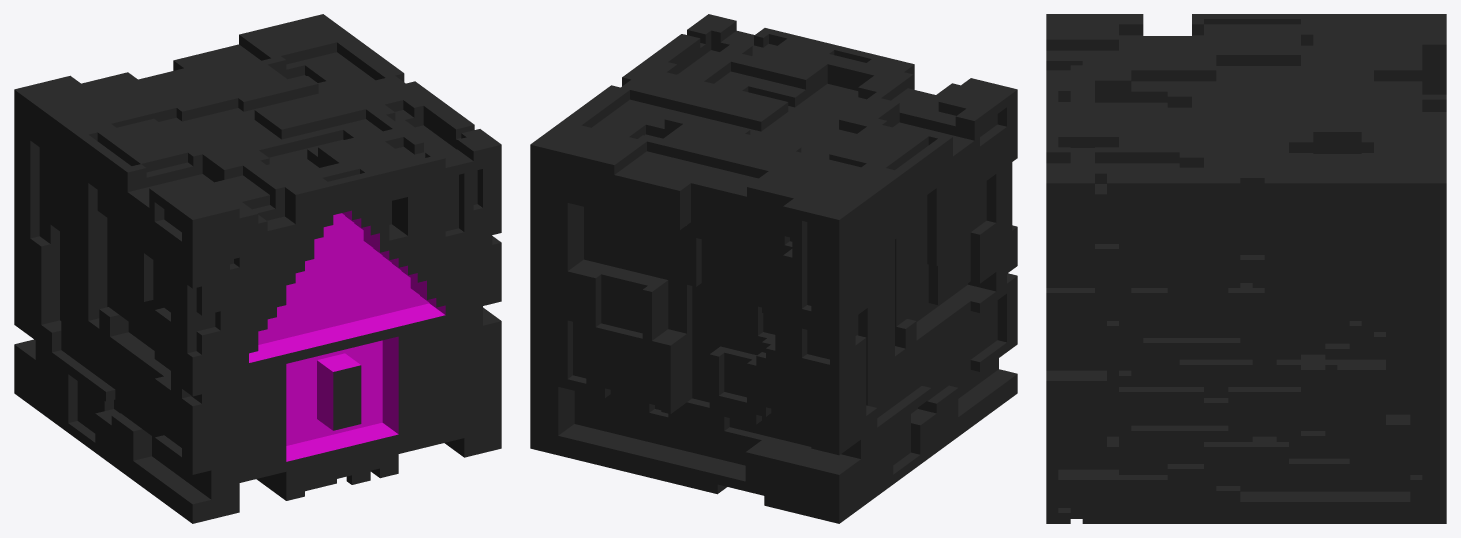
Rendered from MenuPrinciapal.fbx.
The picture shows the model from 3 angles, left to right: view 1: azimuth 30°, elevation 25°; view 2: azimuth 150°, elevation 25°; view 3: azimuth 270°, elevation 25°; orthographic projection. The views are drawn at different scales.
Visible parts, largest first — view 1: bnt_menu_1:polySurface1; view 2: bnt_menu_1:polySurface1; view 3: bnt_menu_1:polySurface1.
Part boxes in pixels (left/top/right/bottom): bnt_menu_1:polySurface1: left=14, top=14, right=501, bottom=523; bnt_menu_1:polySurface1: left=530, top=14, right=1017, bottom=523; bnt_menu_1:polySurface1: left=1046, top=14, right=1446, bottom=523.
Bounding box in the file's own units: 3.72 × 3.49 × 3.72.
